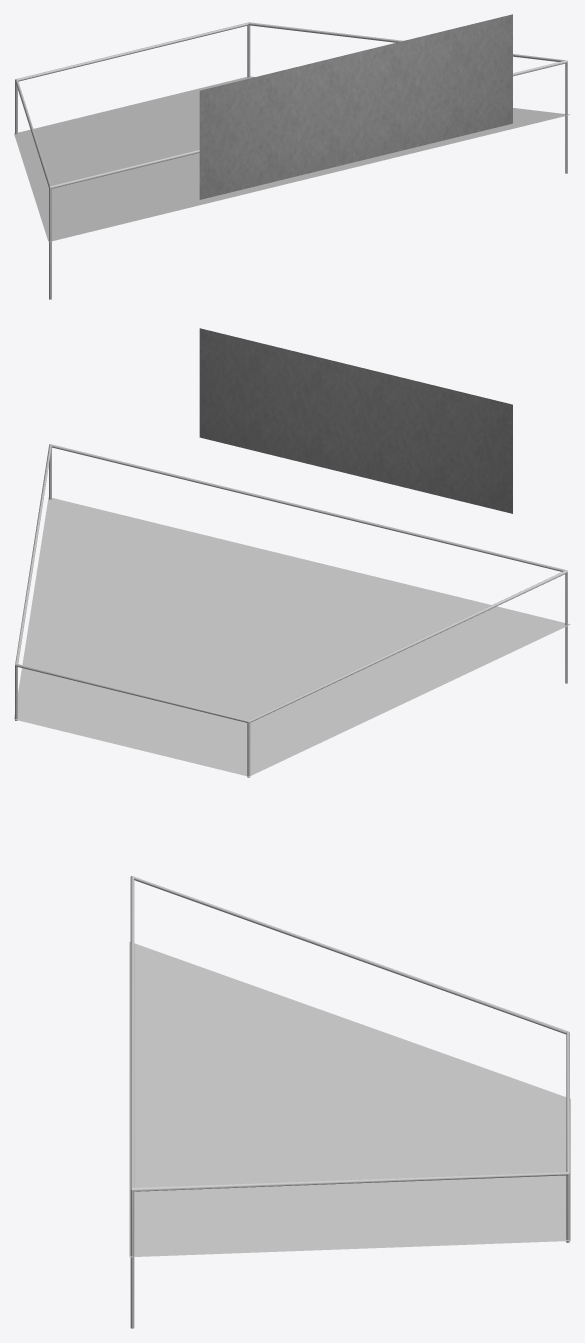
The model's file is audience.obj.
3 renders of one model, top to bottom at view 1: azimuth 30°, elevation 25°; view 2: azimuth 150°, elevation 25°; view 3: azimuth 270°, elevation 25°, orthographic. The views are drawn at different scales.
Parts seen in each view (by area): view 1: controlRoomWindow, audience_Plane.004, Cylinder.006_Cylinder.047; view 2: audience_Plane.004, controlRoomWindow, Cylinder.006_Cylinder.047; view 3: audience_Plane.004, Cylinder.006_Cylinder.047.
Boxes of the visible parts, left/top/right/bottom form: controlRoomWindow: left=199, top=14, right=512, bottom=199; audience_Plane.004: left=14, top=76, right=570, bottom=241; Cylinder.006_Cylinder.047: left=15, top=22, right=567, bottom=299; audience_Plane.004: left=14, top=497, right=570, bottom=776; controlRoomWindow: left=199, top=328, right=512, bottom=513; Cylinder.006_Cylinder.047: left=15, top=444, right=567, bottom=777; audience_Plane.004: left=129, top=941, right=570, bottom=1257; Cylinder.006_Cylinder.047: left=130, top=876, right=569, bottom=1328.
Size of the model in its own units: 10 by 4 by 7.45.
